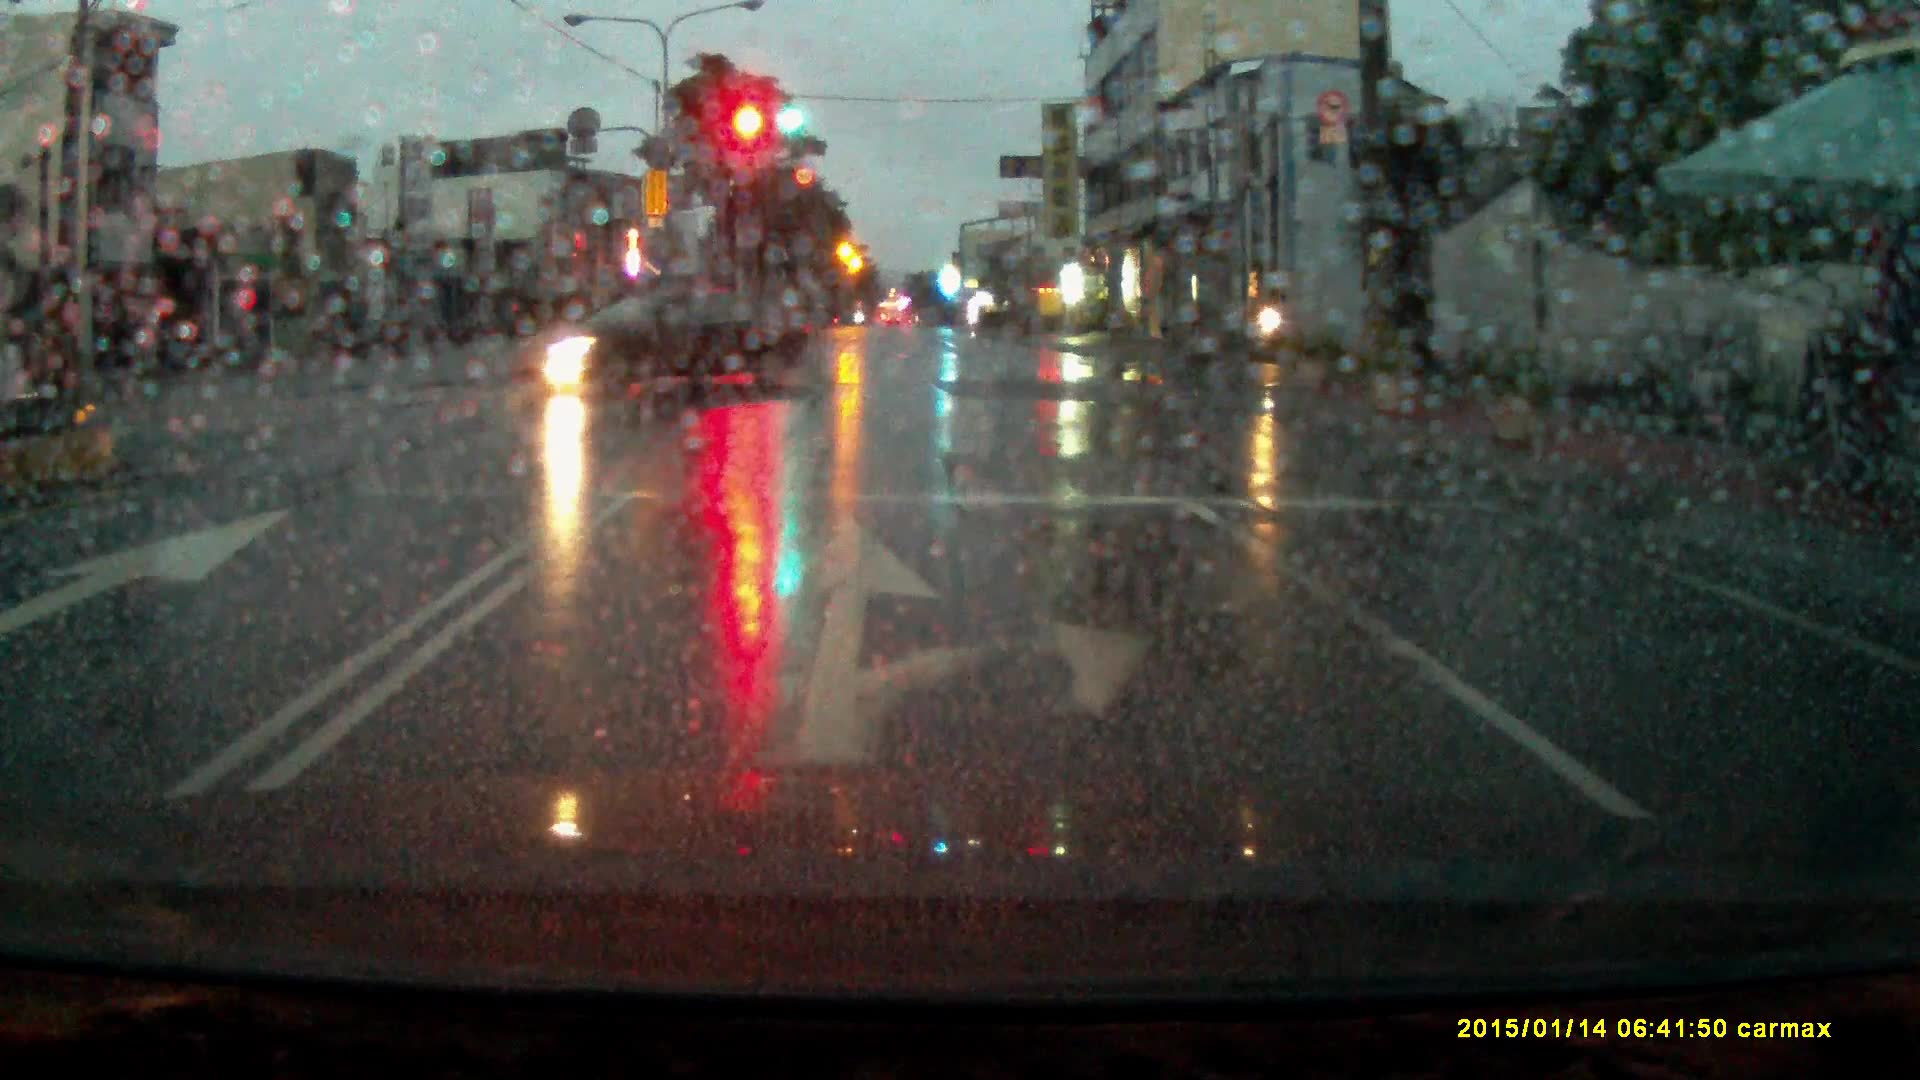rider: (1242, 276, 1311, 371)
vehicle: (501, 289, 820, 396)
